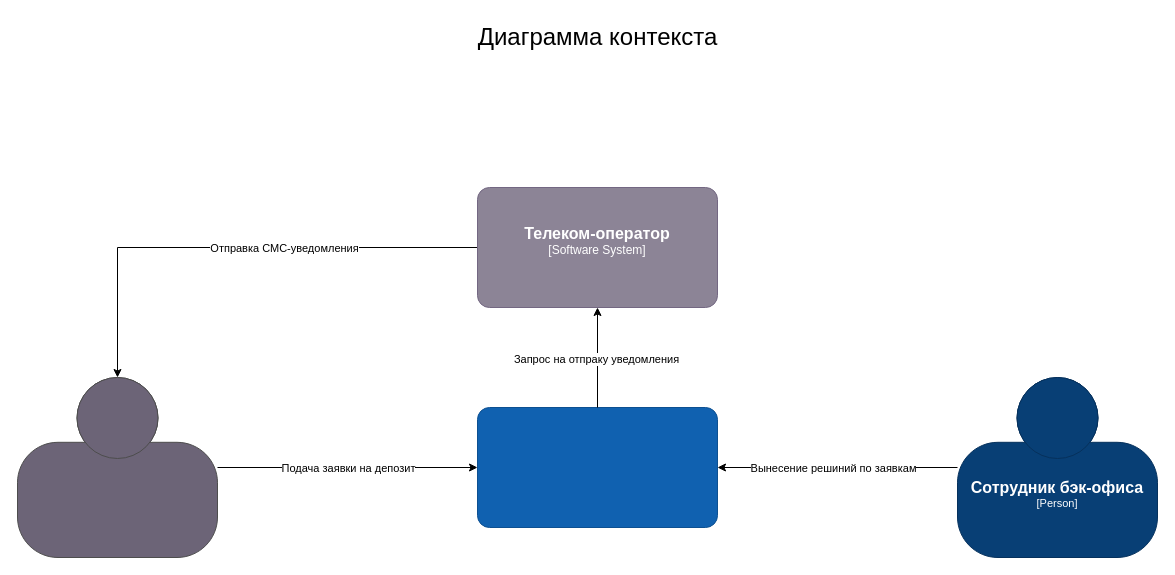
This 1175x575 diagram has some shape labels left out. The shapes that lost their labels are listed below. From the top down, each one's box as (x1, y1, x2, y2) in pixels, then its label:
(16, 376, 218, 558): Клиент [Person]
(476, 406, 718, 528): Банк [Software System] ИС банка
